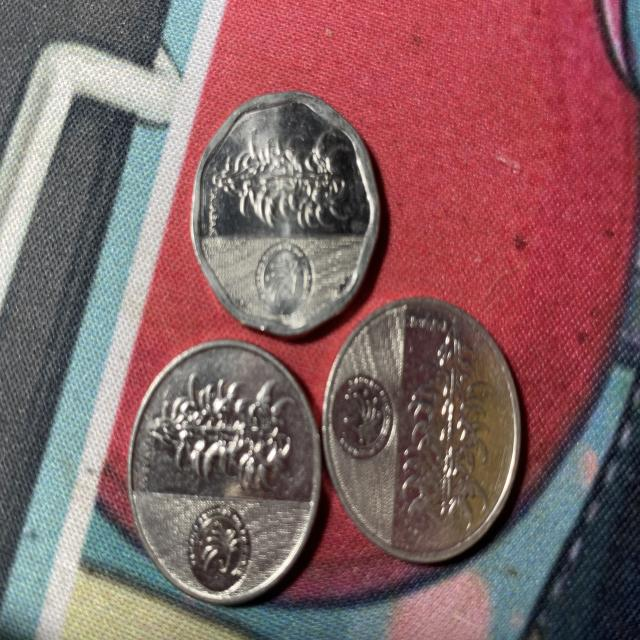5_New_Back: (150, 370, 296, 493), (406, 310, 486, 524), (218, 132, 349, 227)
